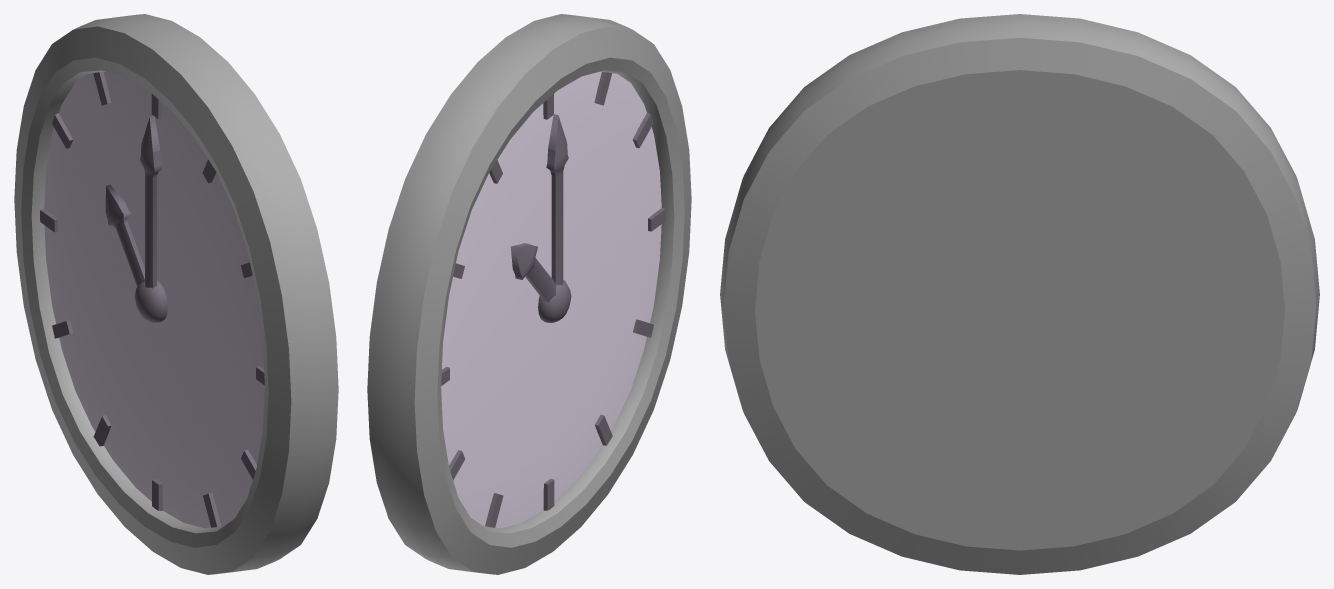
File: Clock_01.fbx
3 views of the same model, side by side, from view 1: azimuth 30°, elevation 25°; view 2: azimuth 150°, elevation 25°; view 3: azimuth 270°, elevation 25° (orthographic). The views are drawn at different scales.
Parts seen in each view (by area): view 1: Clock_01; view 2: Clock_01; view 3: Clock_01.
Part boxes in pixels (bbox=[...]): Clock_01: bbox=[14, 14, 338, 574]; Clock_01: bbox=[367, 14, 691, 574]; Clock_01: bbox=[720, 14, 1319, 574].
Bounding box in the file's own units: 9.42 × 66.71 × 66.71.
2 materials, 1 textured.
